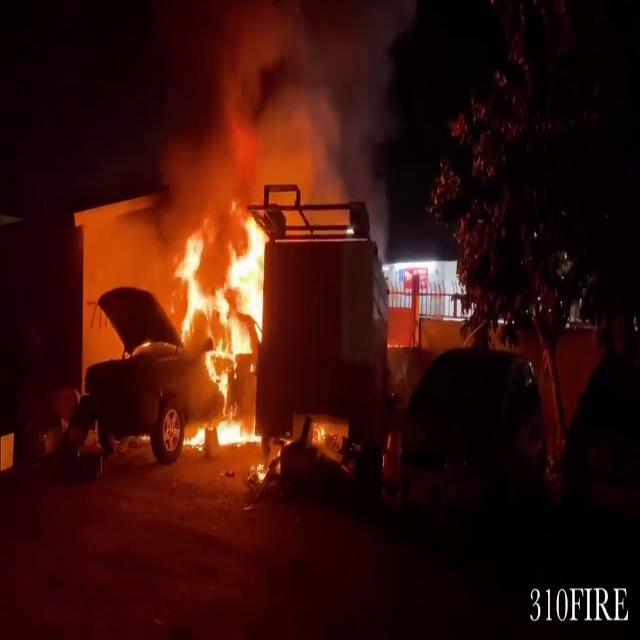Fire: (167, 186, 277, 450)
Smoke: (148, 1, 418, 202)
